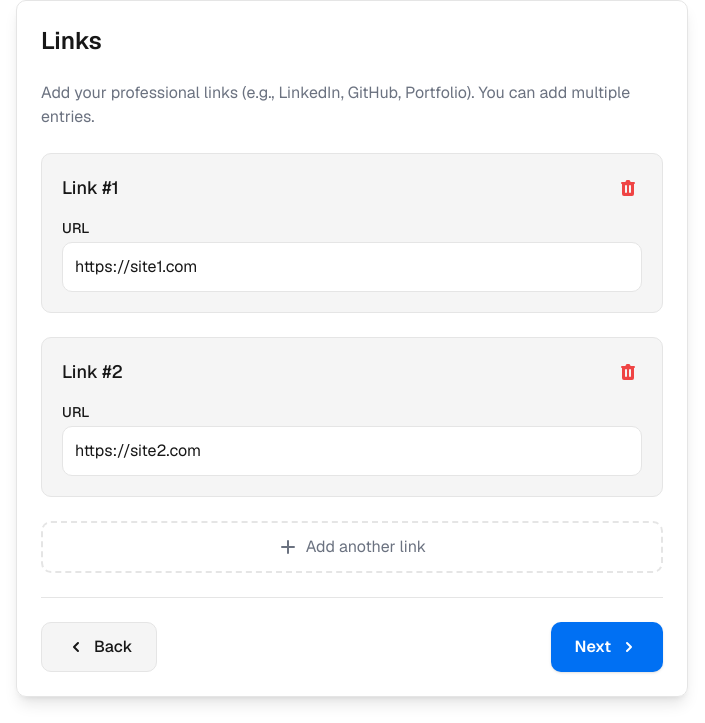
Test: LinksForm Component › Zarządzanie listą linków › powinien usunąć pole po kliknięciu 'Remove link'
Click the 1st button named "Remove link" at [628, 188], box [614,174,642,202]
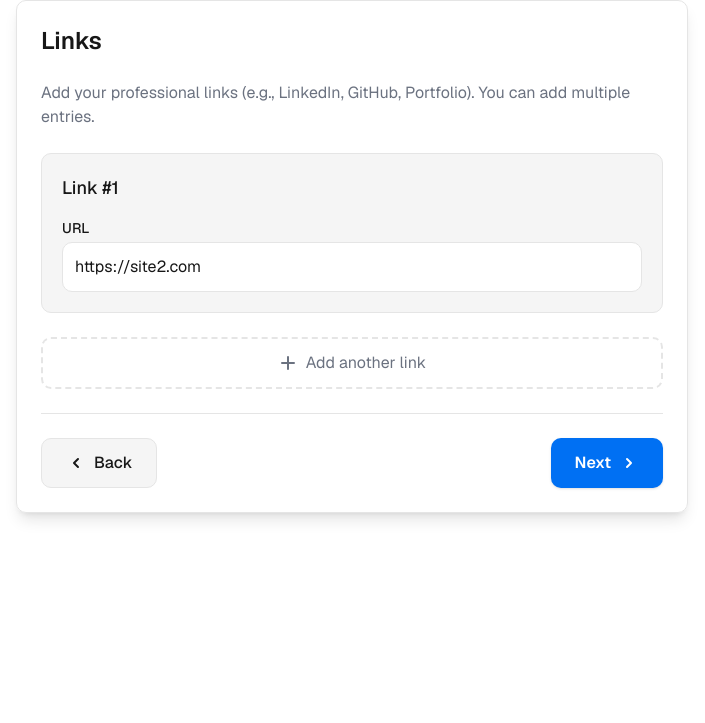
Check: the number of fields is 1, box [62,242,642,292]
Check: the field holds "https://site2.com", box [62,242,642,292]
